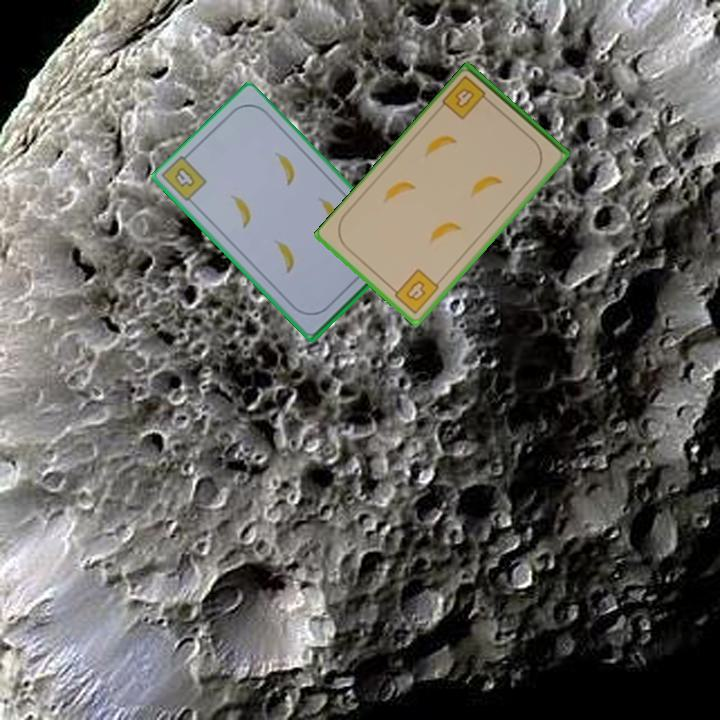4b: (387, 265, 442, 317), (439, 72, 495, 123), (170, 163, 198, 190)
